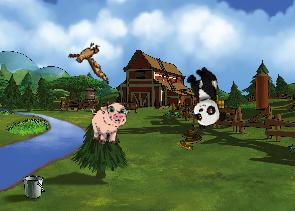eagle: (63, 36, 118, 84)
panda: (181, 64, 228, 130)
pig: (87, 100, 130, 146)
